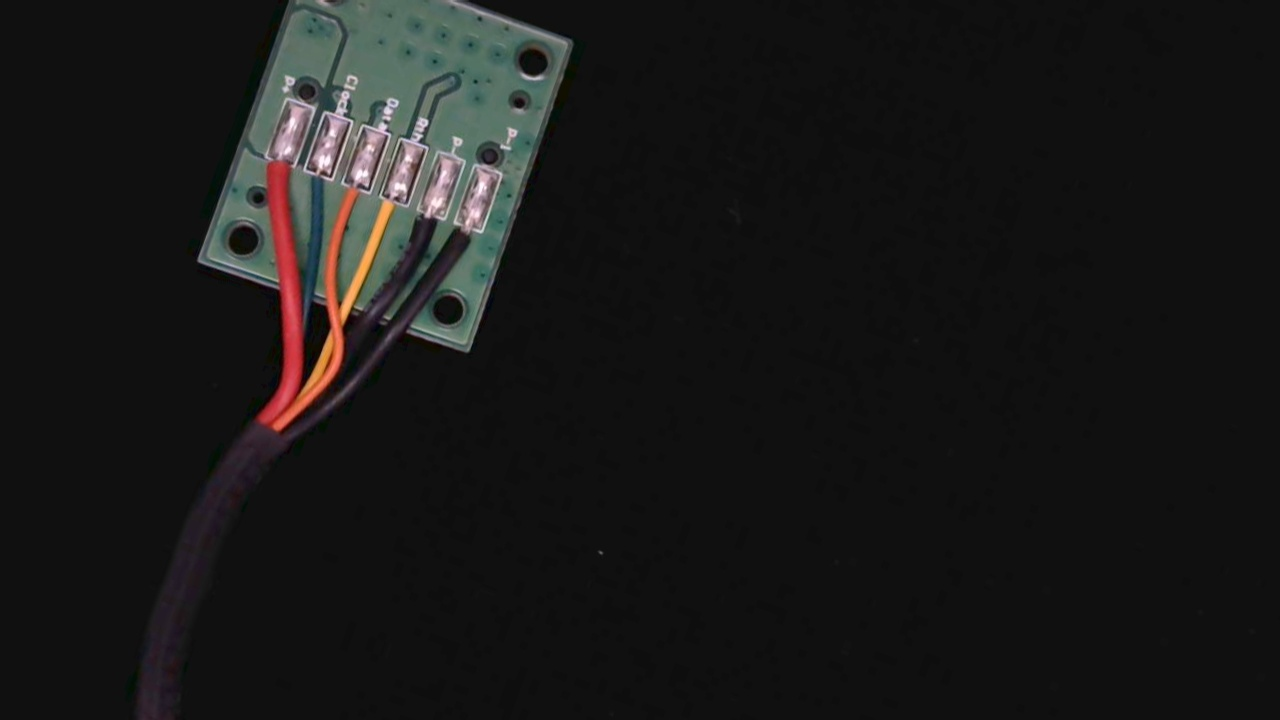Black: (396, 193, 450, 265)
Black1: (436, 206, 490, 281)
Green: (287, 153, 339, 222)
Orange: (324, 165, 376, 232)
Red: (244, 141, 301, 218)
Yellow: (361, 177, 411, 249)
